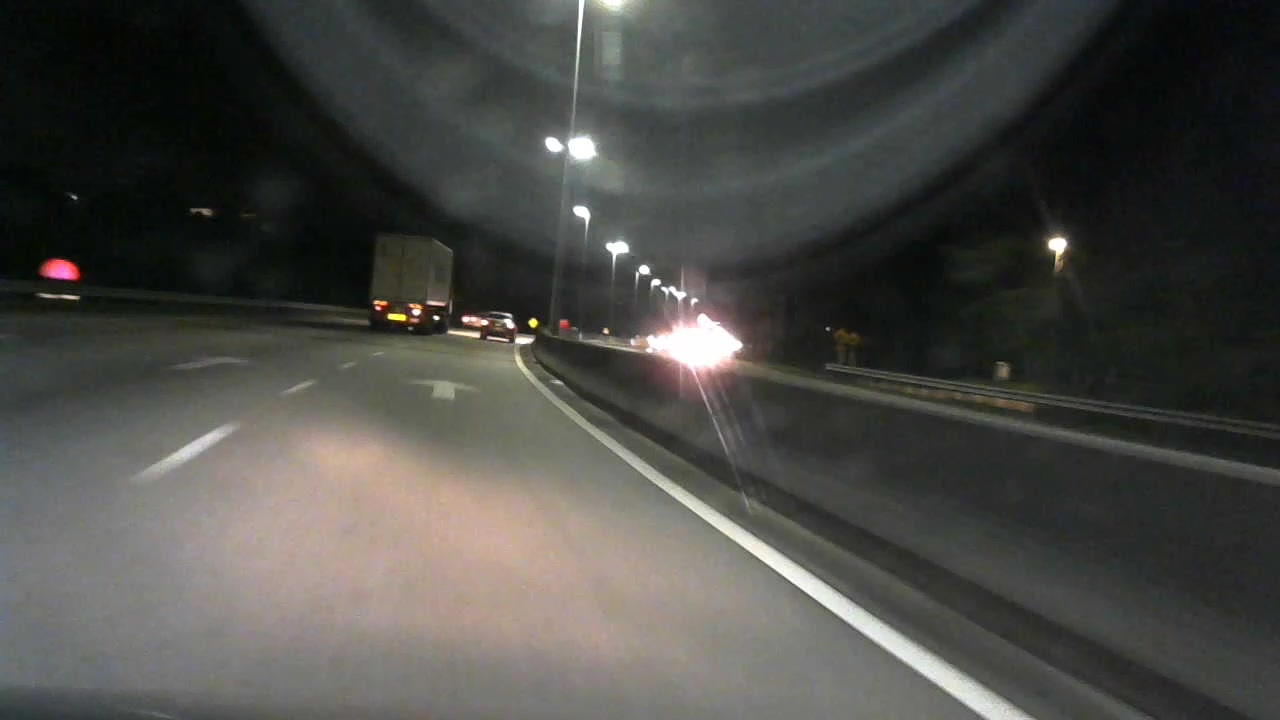Car: (477, 309, 523, 347)
